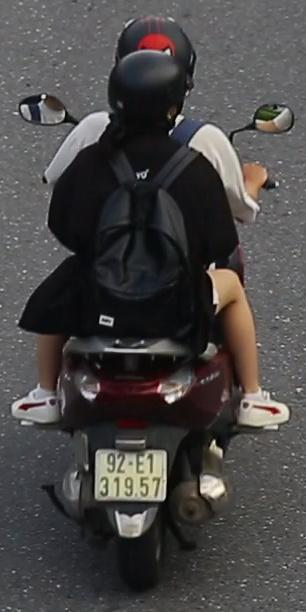LP: (92, 443, 168, 502)
helmet: (100, 50, 192, 140), (113, 7, 200, 84)
